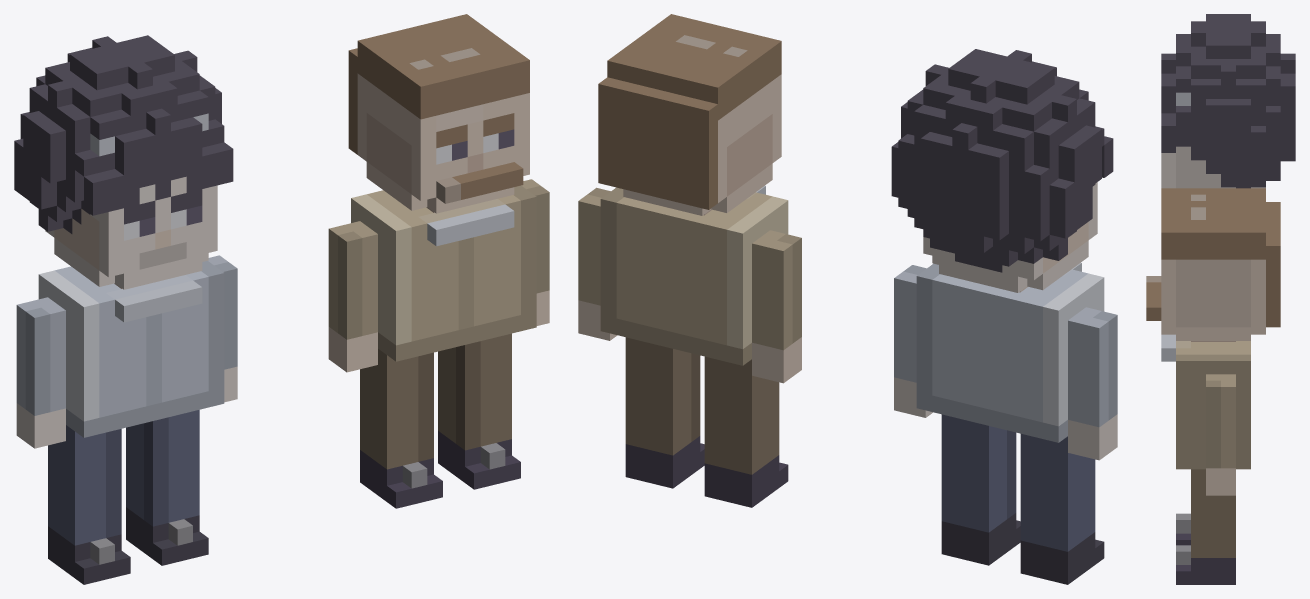
File: boss_zeus.glb
3 renders of one model, left to right at view 1: azimuth 30°, elevation 25°; view 2: azimuth 150°, elevation 25°; view 3: azimuth 270°, elevation 25°, orthographic. The views are drawn at different scales.
Parts seen in each view (by area): view 1: armL, armR; view 2: armL, armR; view 3: armR, armL.
Part boxes in pixels (x1=…): armL: x1=14, y1=35, x2=237, y2=584; armR: x1=328, y1=14, x2=549, y2=508; armL: x1=891, y1=49, x2=1117, y2=584; armR: x1=578, y1=14, x2=801, y2=507; armR: x1=1146, y1=188, x2=1280, y2=584; armL: x1=1161, y1=14, x2=1295, y2=188.
Size of the model in its own units: 2.06 by 1.88 by 0.625.
